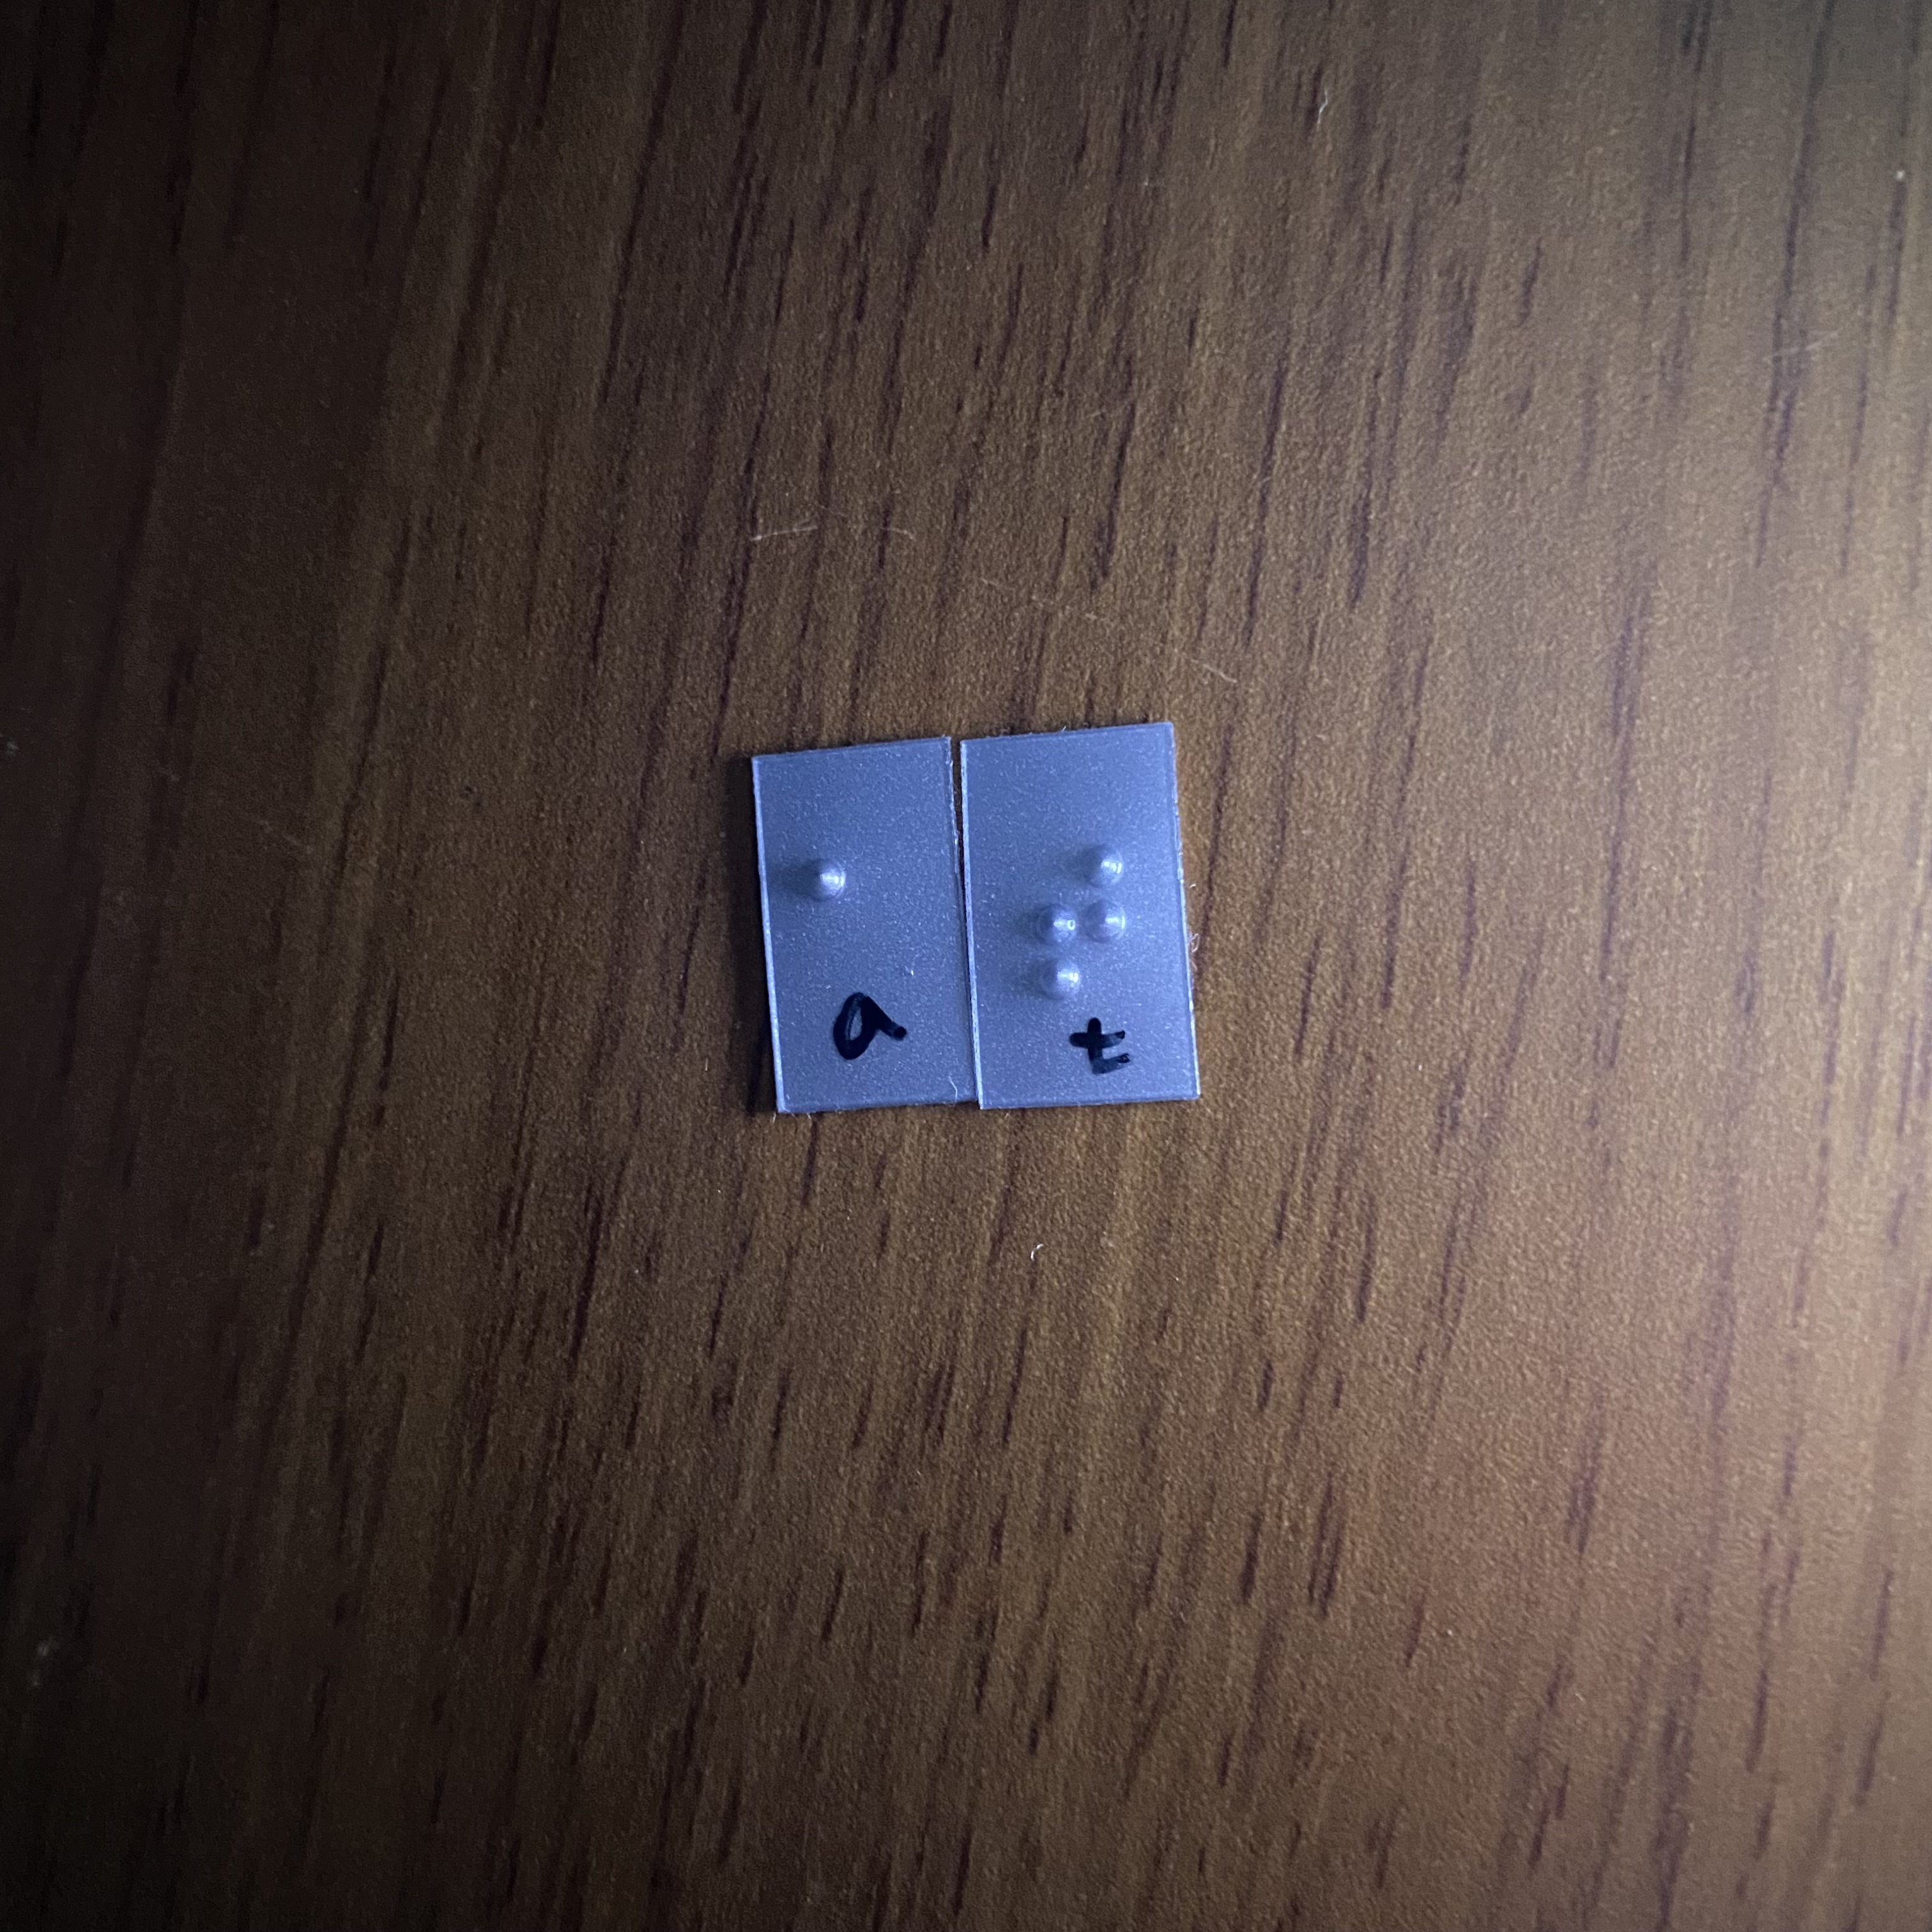a: (787, 837, 924, 1024)
t: (1016, 828, 1148, 1013)
